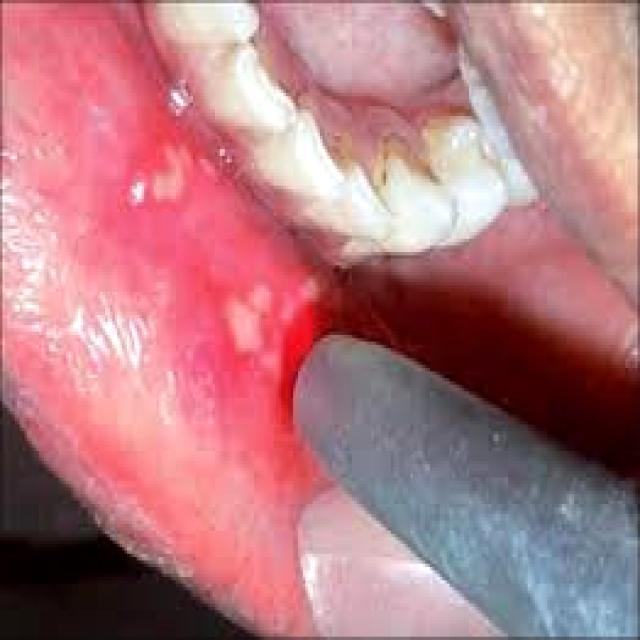ulcer: (129, 162, 183, 202), (227, 298, 261, 352), (247, 285, 269, 315)
